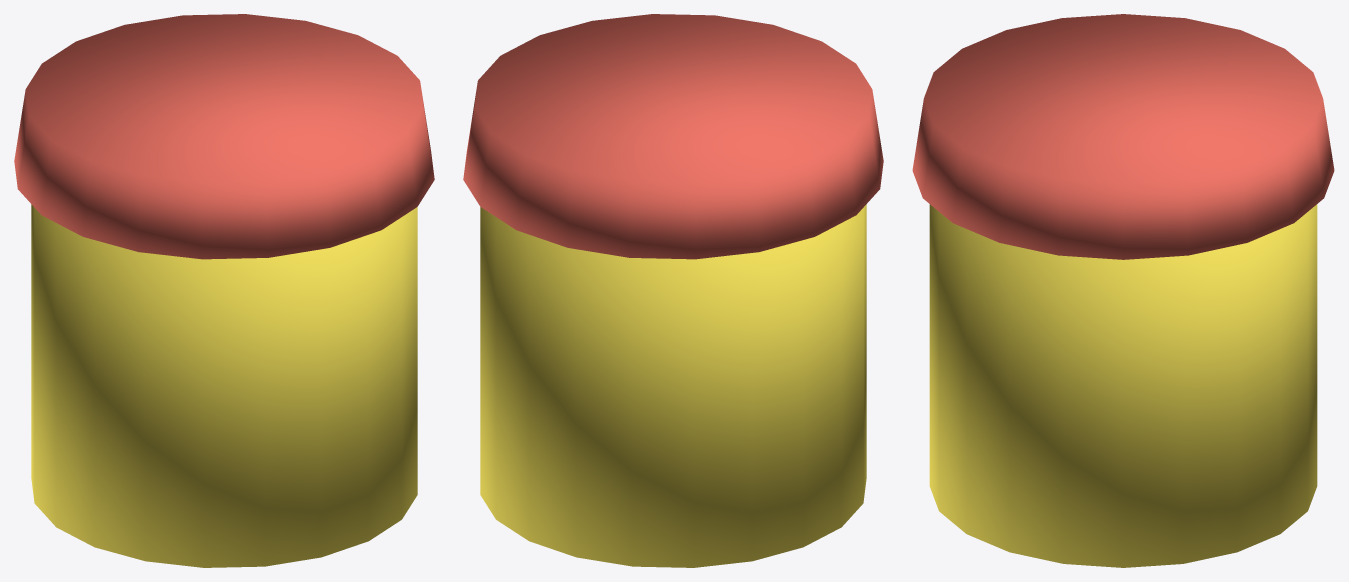
Rendered from prop_bumper_peg_yellow.glb.
3 renders of one model, left to right at view 1: azimuth 30°, elevation 25°; view 2: azimuth 150°, elevation 25°; view 3: azimuth 270°, elevation 25°, orthographic.
Parts seen in each view (by area): view 1: Mesh_Bumper_Peg; view 2: Mesh_Bumper_Peg; view 3: Mesh_Bumper_Peg.
Boxes of the visible parts, x1,y1,x2,y2 form: Mesh_Bumper_Peg: (14, 14, 434, 567); Mesh_Bumper_Peg: (463, 14, 883, 567); Mesh_Bumper_Peg: (912, 14, 1334, 567).
Size of what is drawn, in the model's own units: 0.74 by 0.75 by 0.74.
